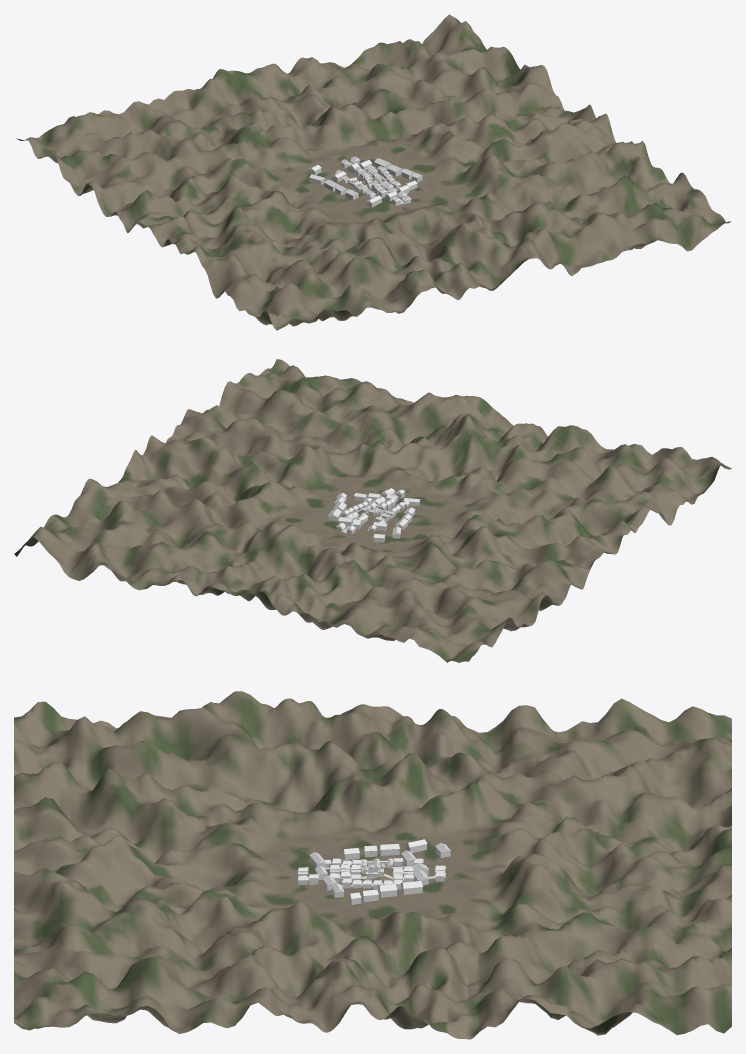
Rendered from liping.glb.
3 views of the same model, one above another, from view 1: azimuth 30°, elevation 25°; view 2: azimuth 150°, elevation 25°; view 3: azimuth 270°, elevation 25° (orthographic). The views are drawn at different scales.
Visible parts, largest first — view 1: Continuous terrain, Historic tile, Historic plaster, Outlying courtyard roofs; view 2: Continuous terrain, Historic tile, Outlying courtyard roofs, Historic plaster; view 3: Continuous terrain, Historic tile, Outlying courtyard roofs, Historic plaster, Historic timber.
Boxes of the visible parts, x1,y1,x2,y2 form: Continuous terrain: [16, 14, 730, 330]; Historic tile: [335, 156, 411, 201]; Historic plaster: [309, 162, 422, 206]; Outlying courtyard roofs: [309, 158, 422, 202]; Continuous terrain: [14, 359, 731, 662]; Historic tile: [336, 488, 409, 530]; Outlying courtyard roofs: [328, 492, 420, 537]; Historic plaster: [328, 496, 419, 542]; Continuous terrain: [14, 691, 731, 1039]; Historic tile: [297, 857, 445, 884]; Outlying courtyard roofs: [309, 839, 450, 898]; Historic plaster: [310, 844, 450, 904]; Historic timber: [297, 843, 450, 898].
Size of the model in its own units: 462 by 45.69 by 462.
Materials: 71 (41 with a texture image).
